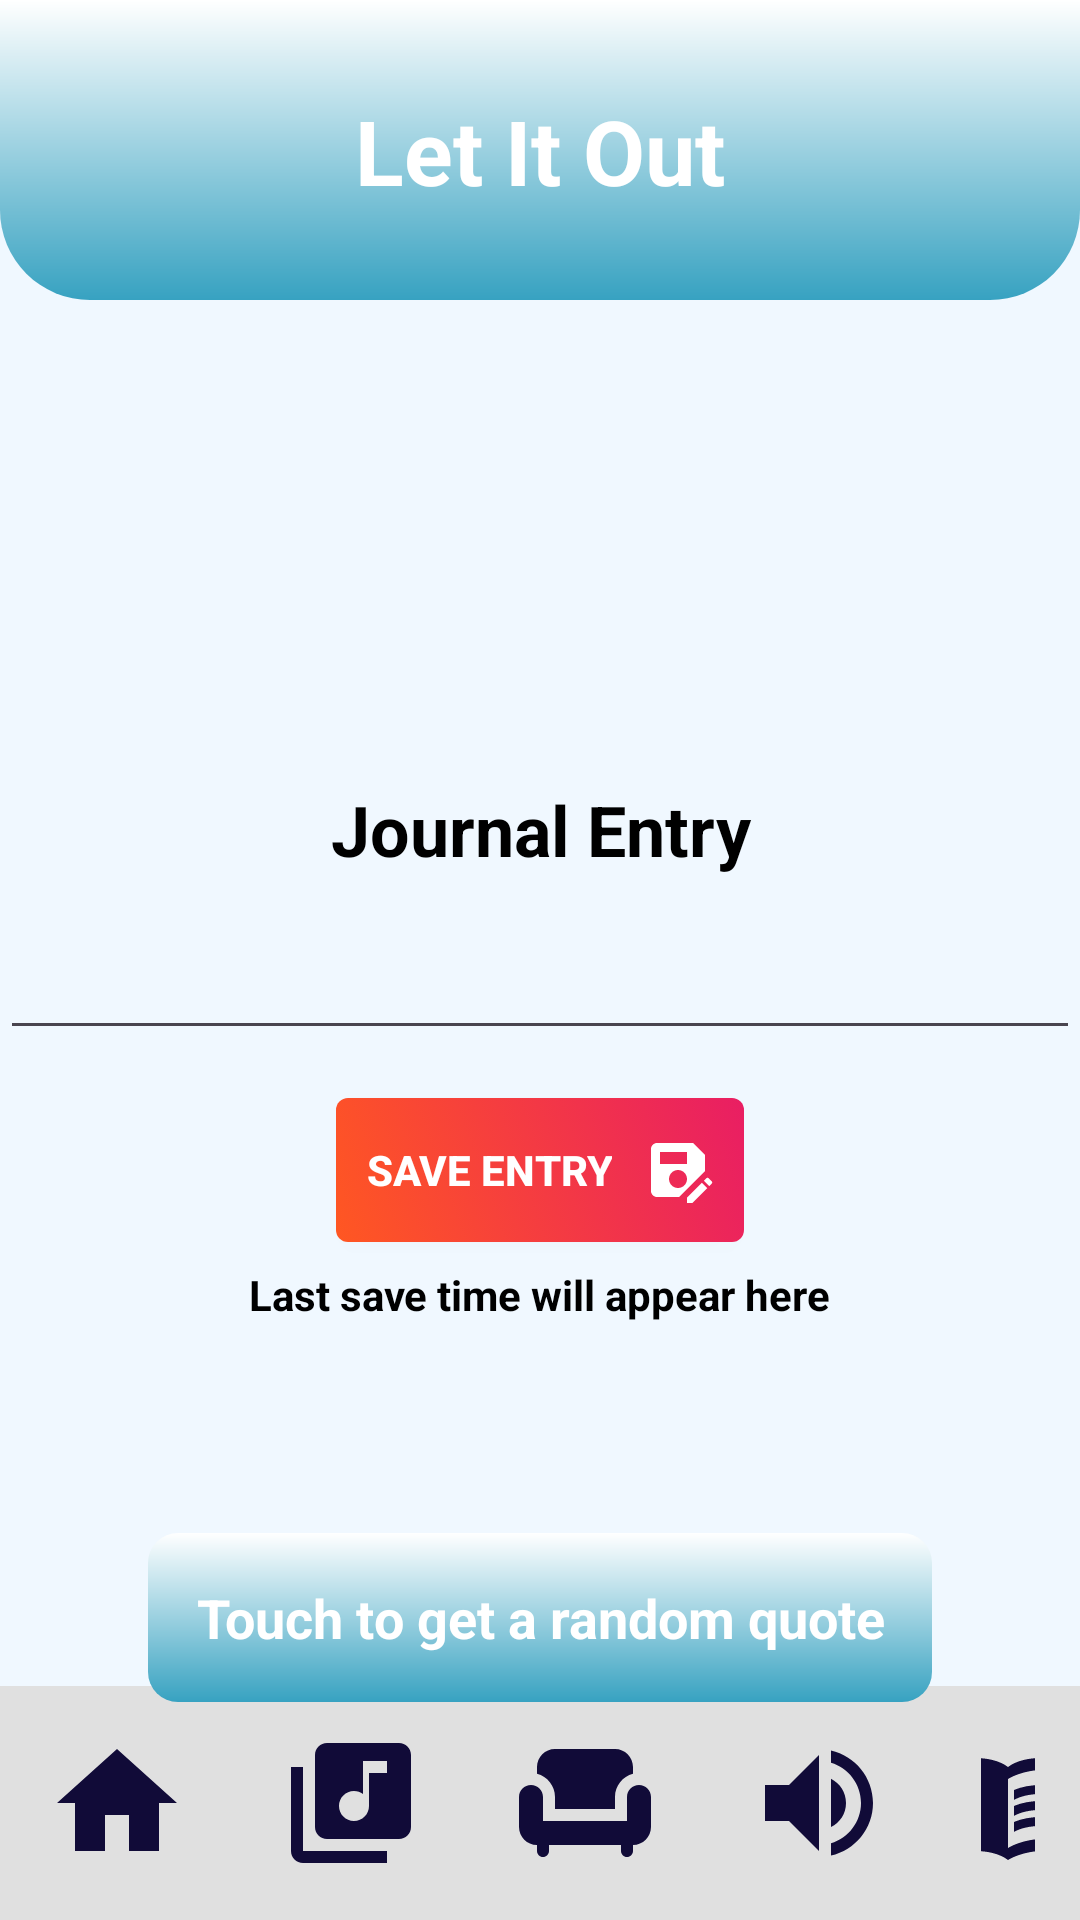

Screen size 1080 x 1920. Icon name, then its center in pixels as point (x, y):
book: point (1008, 1809)
chair: point (585, 1803)
home: point (117, 1800)
library music: point (351, 1803)
volume up: point (819, 1803)
